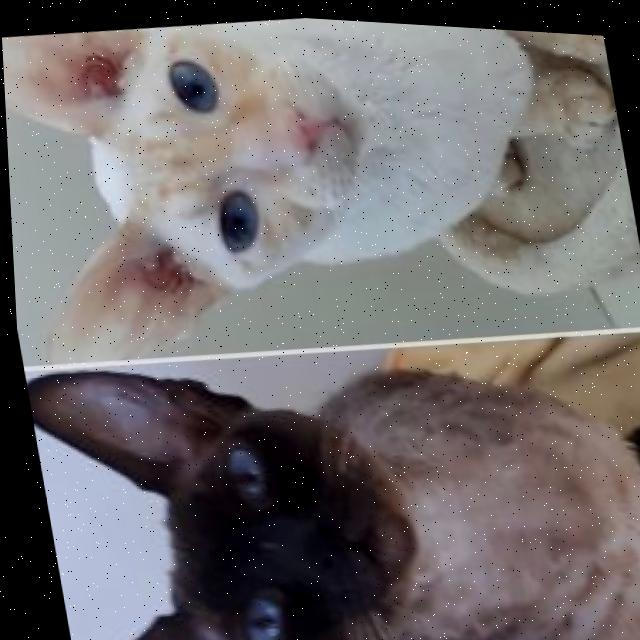Cornish Rex: (0, 0, 640, 391), (16, 295, 640, 640)
